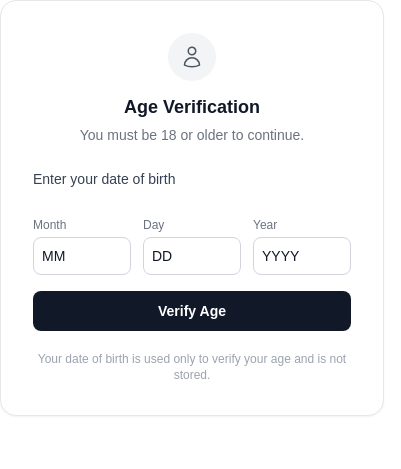
Test case: AgeGate — empty input validation › shows an error when only month and day are selected
Select "January" in the dropdown labelled "Month": (82,256) [33,237,131,275]
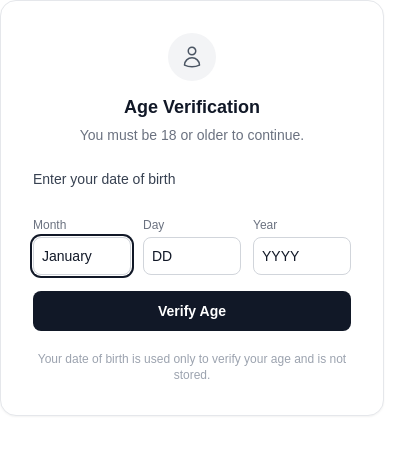
Select "01" in the dropdown labelled "Day": (192,256) [143,237,241,275]
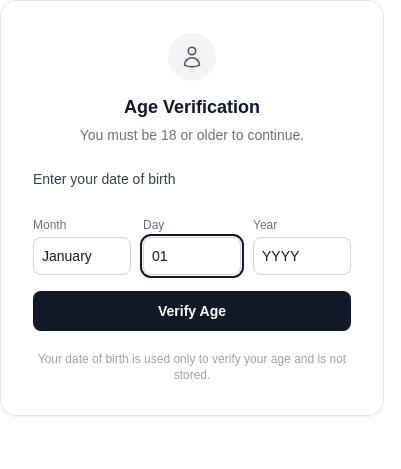
Click the button "Verify Age": (192,311) [33,291,351,331]
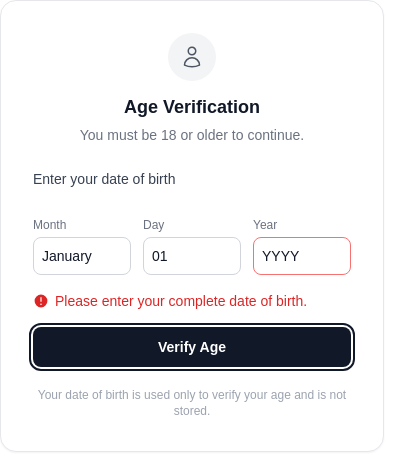
Expected: the message shows "complete date of birth", [55,293,307,309]
